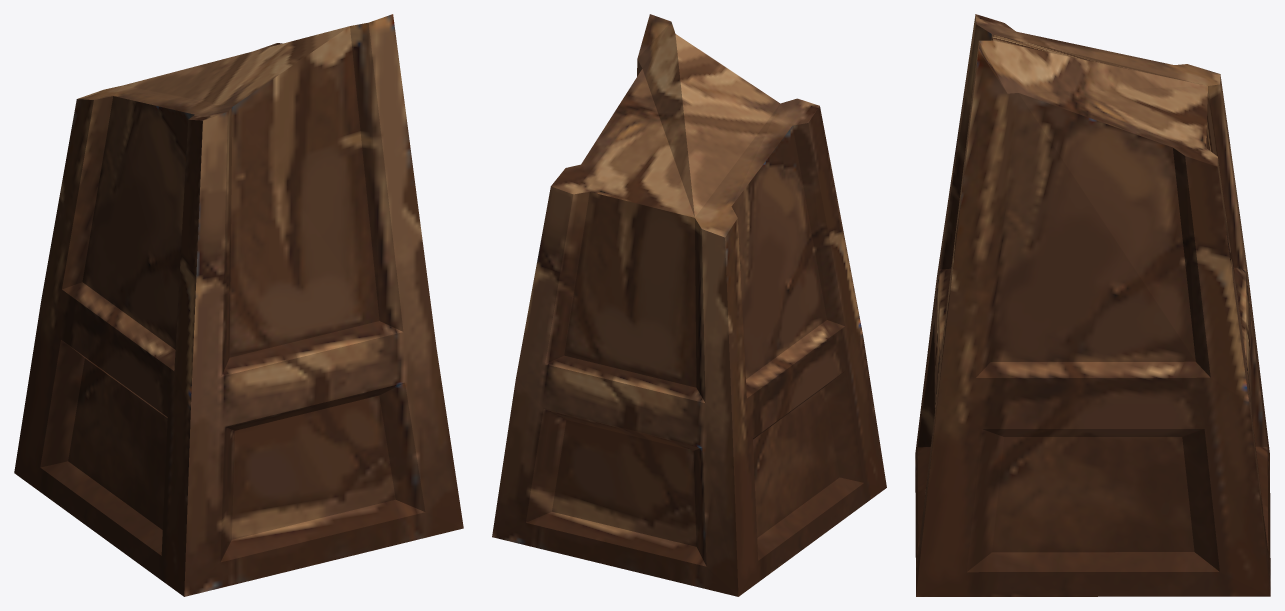
Rendered from ZhuZi04.FBX.
3 renders of one model, left to right at view 1: azimuth 30°, elevation 25°; view 2: azimuth 150°, elevation 25°; view 3: azimuth 270°, elevation 25°, orthographic. The views are drawn at different scales.
Visible parts, largest first — view 1: ZhuZi04; view 2: ZhuZi04; view 3: ZhuZi04.
Boxes of the visible parts, bbox=[...] form: ZhuZi04: bbox=[14, 14, 463, 596]; ZhuZi04: bbox=[492, 14, 886, 596]; ZhuZi04: bbox=[915, 14, 1270, 596].
Size of the model in its own units: 86.17 by 147 by 90.34.
